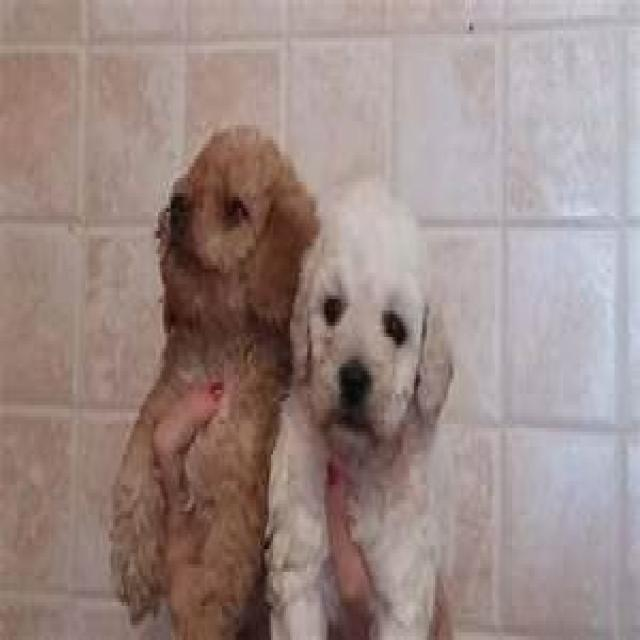animal: (114, 123, 320, 639), (267, 182, 452, 640)
